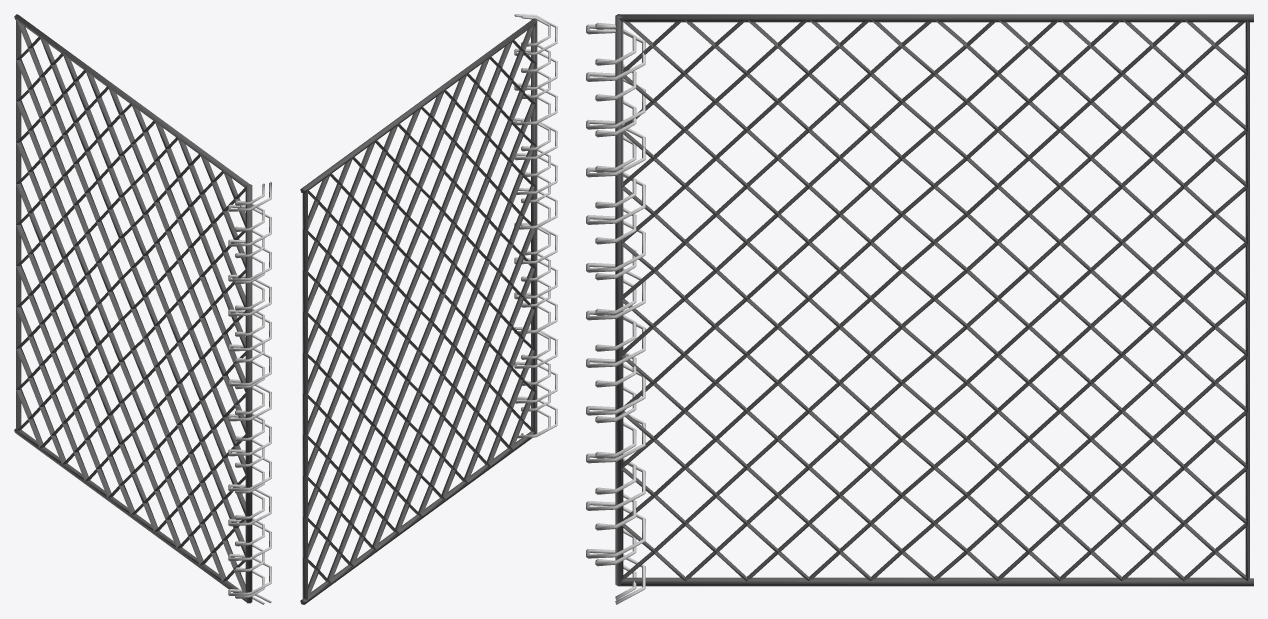
Rendered from chainlink_side.fbx.
3 renders of one model, left to right at view 1: azimuth 30°, elevation 25°; view 2: azimuth 150°, elevation 25°; view 3: azimuth 270°, elevation 25°, orthographic. The views are drawn at different scales.
Parts seen in each view (by area): view 1: Plane01_None, Spring01_None, Spring02_None, Cylinder02_None, Cylinder03_None, Cylinder01_None; view 2: Plane01_None, Spring01_None, Spring02_None, Cylinder03_None, Cylinder02_None, Cylinder01_None; view 3: Plane01_None, Spring01_None, Cylinder03_None, Spring02_None, Cylinder02_None, Cylinder01_None.
Boxes of the visible parts, x1=… form: Plane01_None: x1=16, y1=19, x2=246, y2=598; Spring01_None: x1=228, y1=182, x2=271, y2=603; Spring02_None: x1=235, y1=183, x2=264, y2=604; Cylinder02_None: x1=246, y1=184, x2=252, y2=603; Cylinder03_None: x1=14, y1=14, x2=250, y2=187; Cylinder01_None: x1=14, y1=428, x2=246, y2=601; Plane01_None: x1=302, y1=22, x2=536, y2=599; Spring01_None: x1=514, y1=14, x2=557, y2=438; Spring02_None: x1=521, y1=15, x2=550, y2=434; Cylinder03_None: x1=300, y1=19, x2=536, y2=193; Cylinder02_None: x1=531, y1=18, x2=537, y2=433; Cylinder01_None: x1=300, y1=432, x2=536, y2=604; Plane01_None: x1=621, y1=19, x2=1249, y2=581; Spring01_None: x1=586, y1=24, x2=645, y2=604; Cylinder03_None: x1=619, y1=14, x2=1253, y2=22; Spring02_None: x1=595, y1=22, x2=636, y2=600; Cylinder02_None: x1=615, y1=14, x2=623, y2=586; Cylinder01_None: x1=619, y1=578, x2=1253, y2=586.
Bounding box in the file's own units: 6.42 × 59.47 × 62.33.
Materials: 1 (1 with a texture image).
